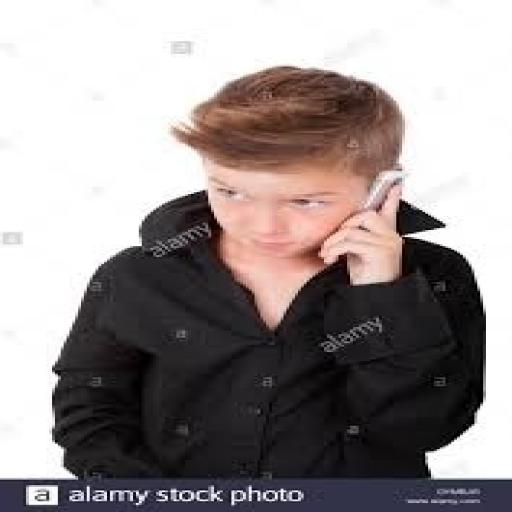calling: (46, 63, 489, 480)
